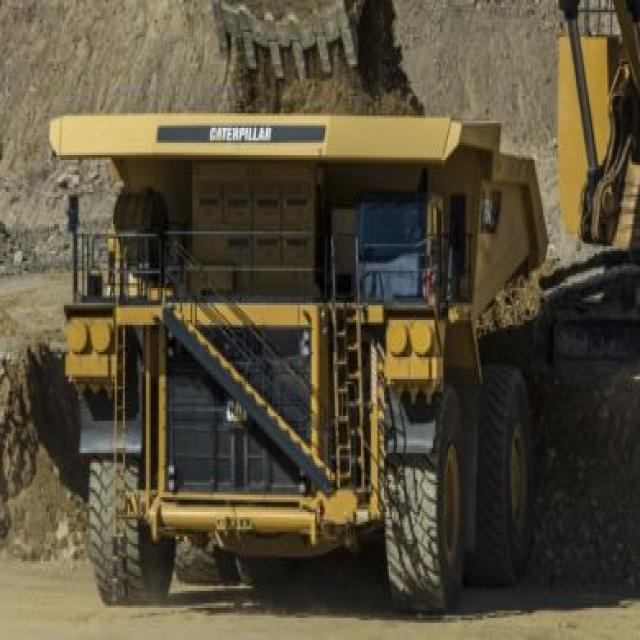dump_truck: (42, 62, 578, 608)
